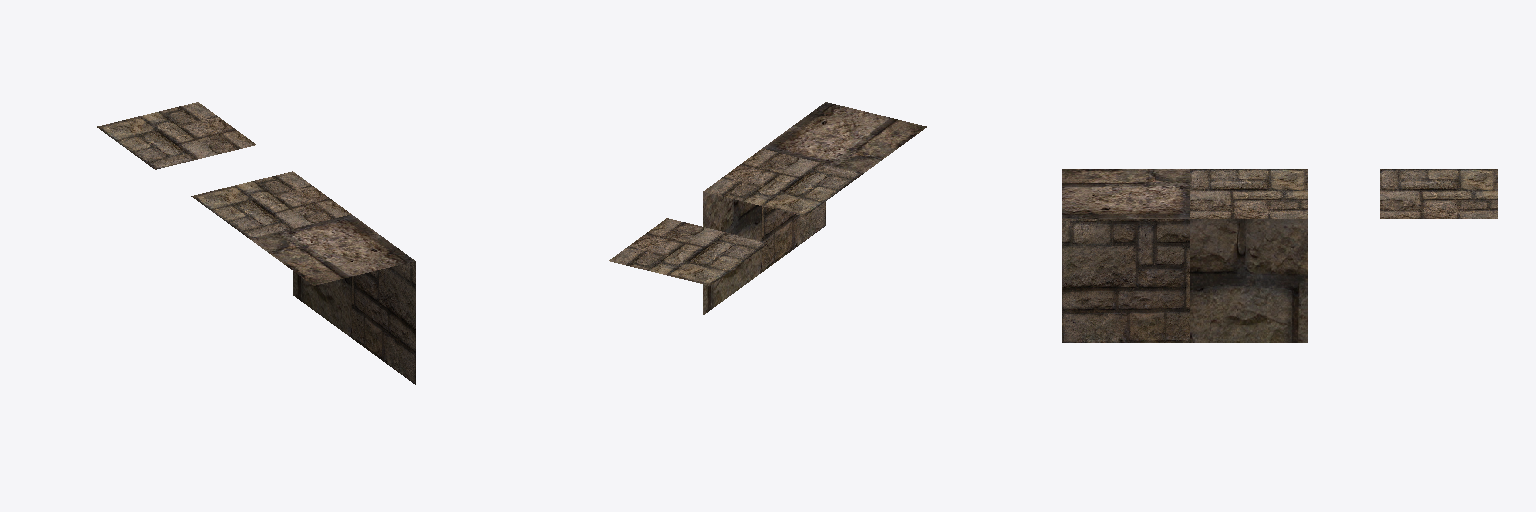
The picture shows the model from 3 angles: view 1: azimuth 30°, elevation 25°; view 2: azimuth 150°, elevation 25°; view 3: azimuth 270°, elevation 25°; orthographic projection.
Parts seen in each view (by area): view 1: Cube; view 2: Cube; view 3: Cube.
Part boxes in pixels (bbox=[...]): Cube: bbox=[97, 102, 415, 384]; Cube: bbox=[609, 102, 926, 314]; Cube: bbox=[1062, 169, 1497, 342].
Size of the model in its own units: 2 by 2.32 by 7.38.
Materials: 1 (1 with a texture image).